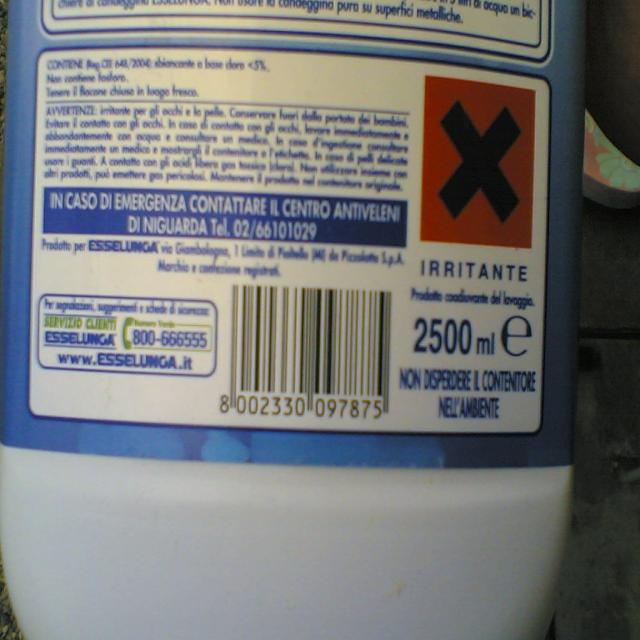barcode: (221, 283, 394, 420)
